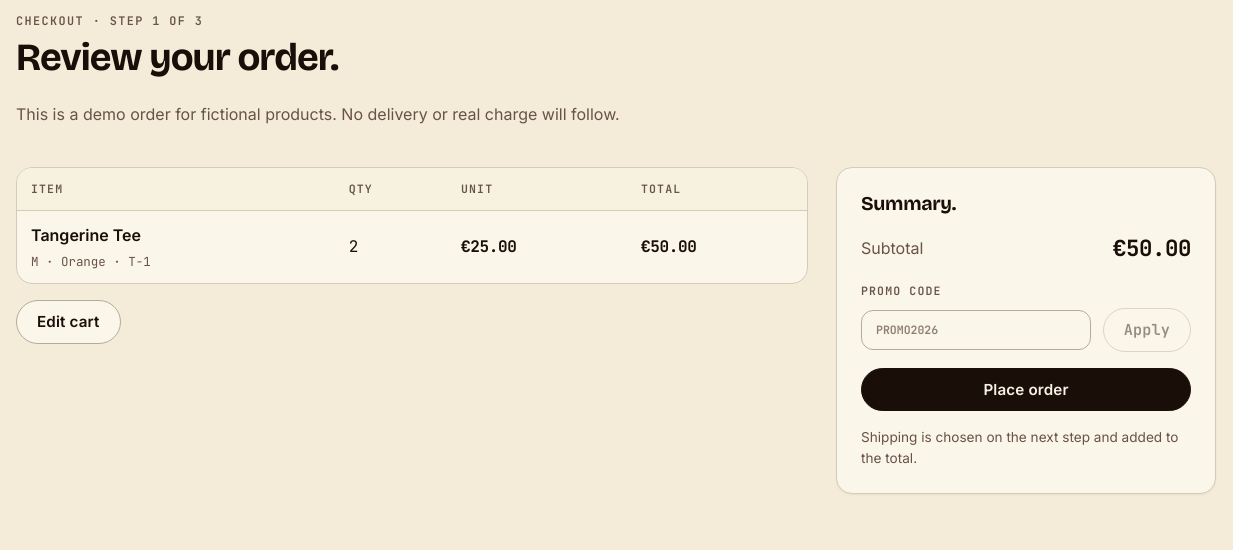
it: CheckoutPage promo + checkout › surfaces the backend problem detail when the promo is rejected
The width and height of the screenshot is (1233, 550).
Type "OLDCODE" into the field with placeholder "PROMO2026" at point(976, 330), box 861,310 -> 1091,350
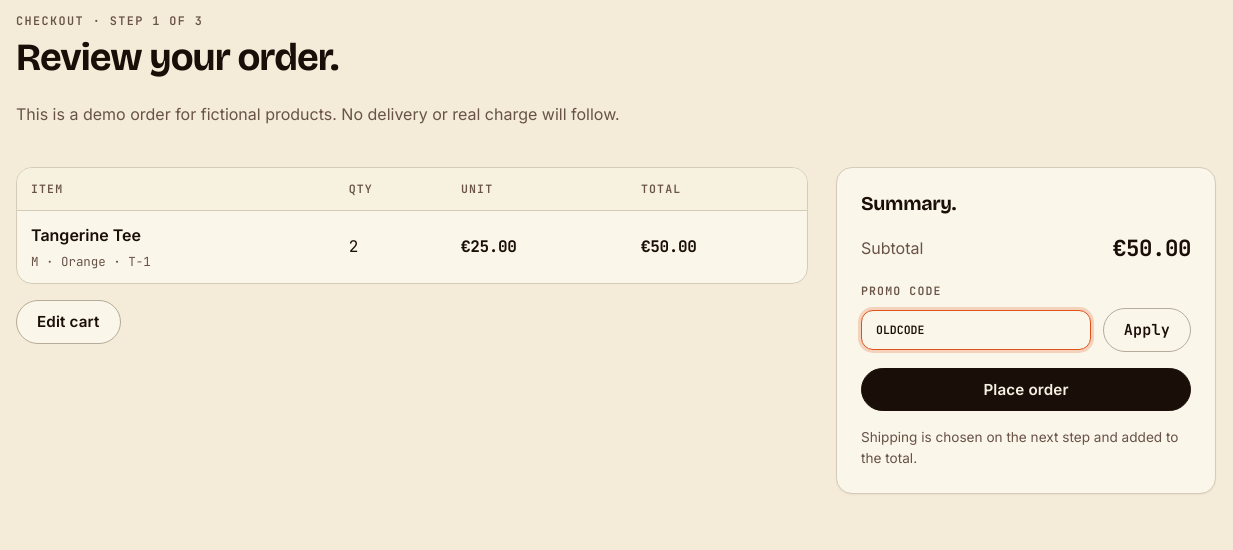
Click the button "Apply" at point(1147, 330), box 1103,308 -> 1191,352
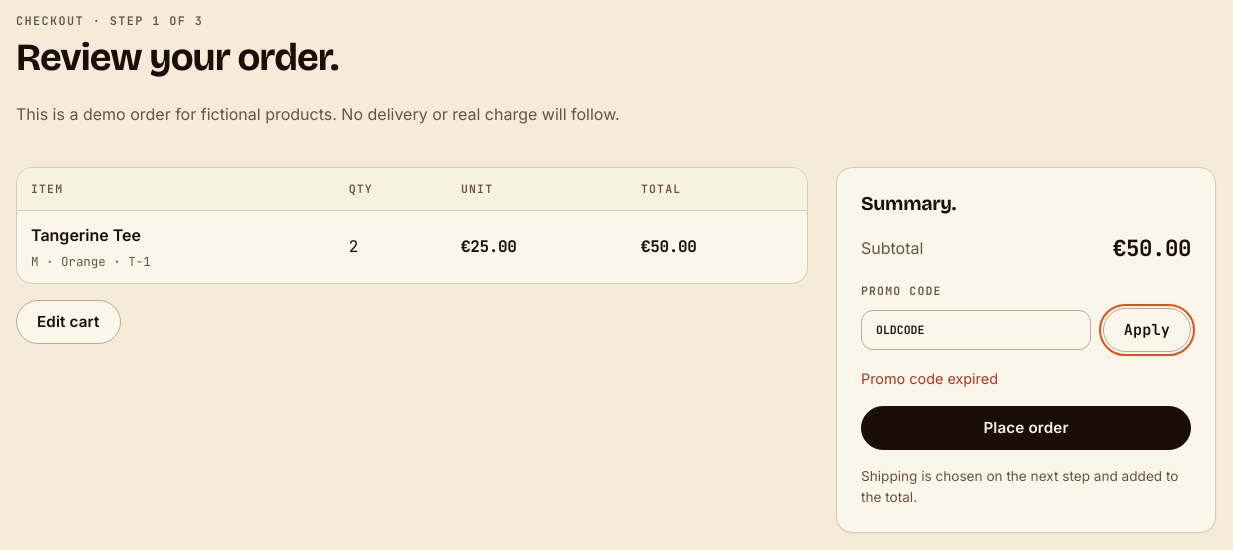
Now the text "Promo code expired" is shown, box 861,370 -> 998,387
